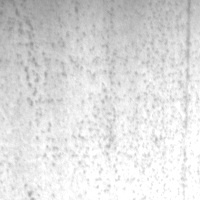pitted_surface: (5, 1, 199, 192)
